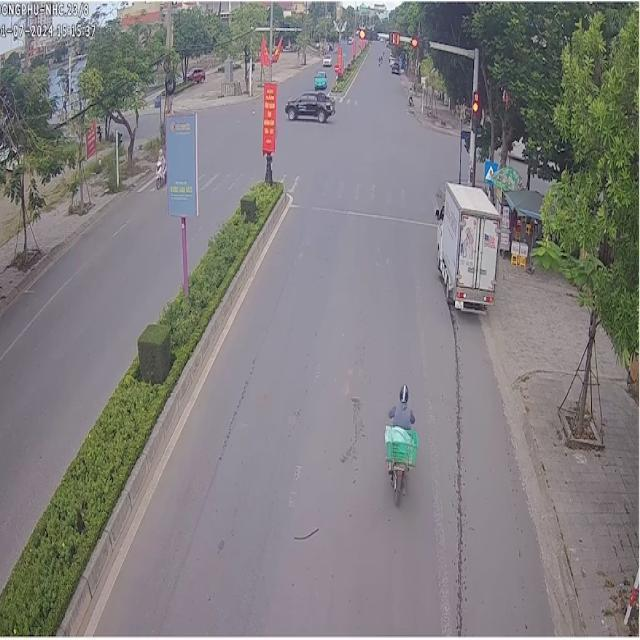car: (434, 180, 498, 309), (282, 96, 334, 128)
motobike: (379, 381, 419, 516)
red_light: (469, 88, 479, 131), (356, 24, 376, 39)
stop_line: (287, 202, 453, 228)
yellow_light: (382, 31, 387, 36)
